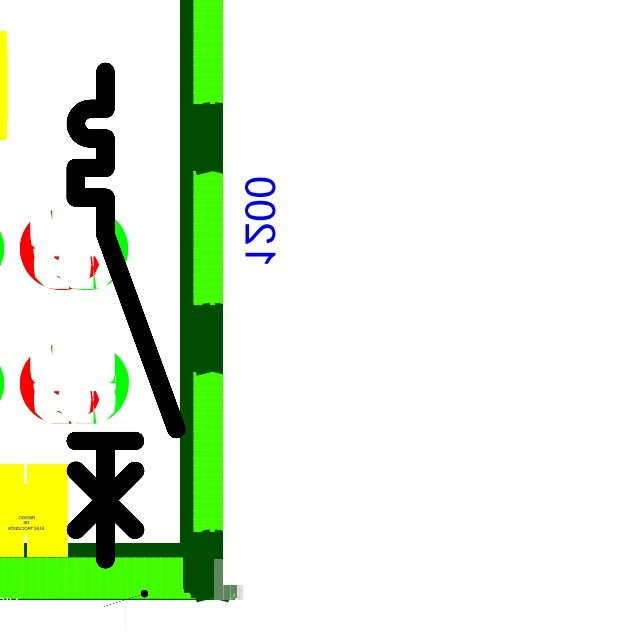interruptor_termomagnetico: (63, 59, 188, 572)
